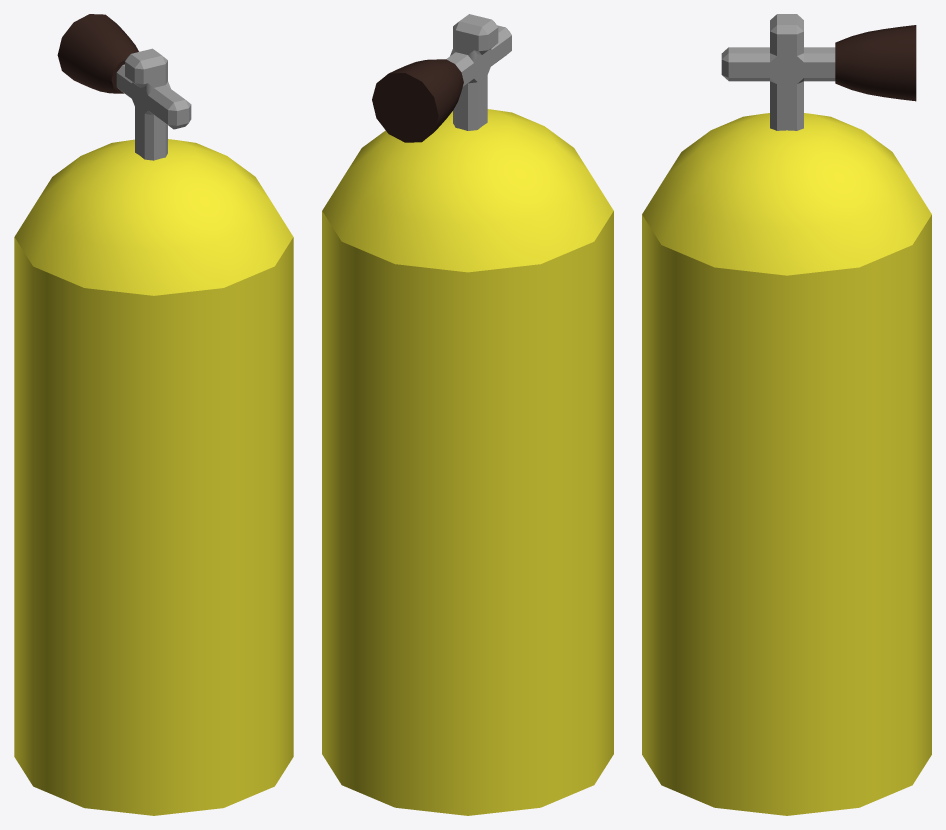
Rendered from Air_Canister.FBX.
3 views of the same model, side by side, from view 1: azimuth 30°, elevation 25°; view 2: azimuth 150°, elevation 25°; view 3: azimuth 270°, elevation 25° (orthographic). The views are drawn at different scales.
Visible parts, largest first — view 1: OilTank002; view 2: OilTank002; view 3: OilTank002.
Part boxes in pixels (x1,y1,x2,y2): OilTank002: (14,14,293,815); OilTank002: (322,14,613,815); OilTank002: (642,14,931,815).
Size of the model in its own units: 18.71 by 52.09 by 18.71.
